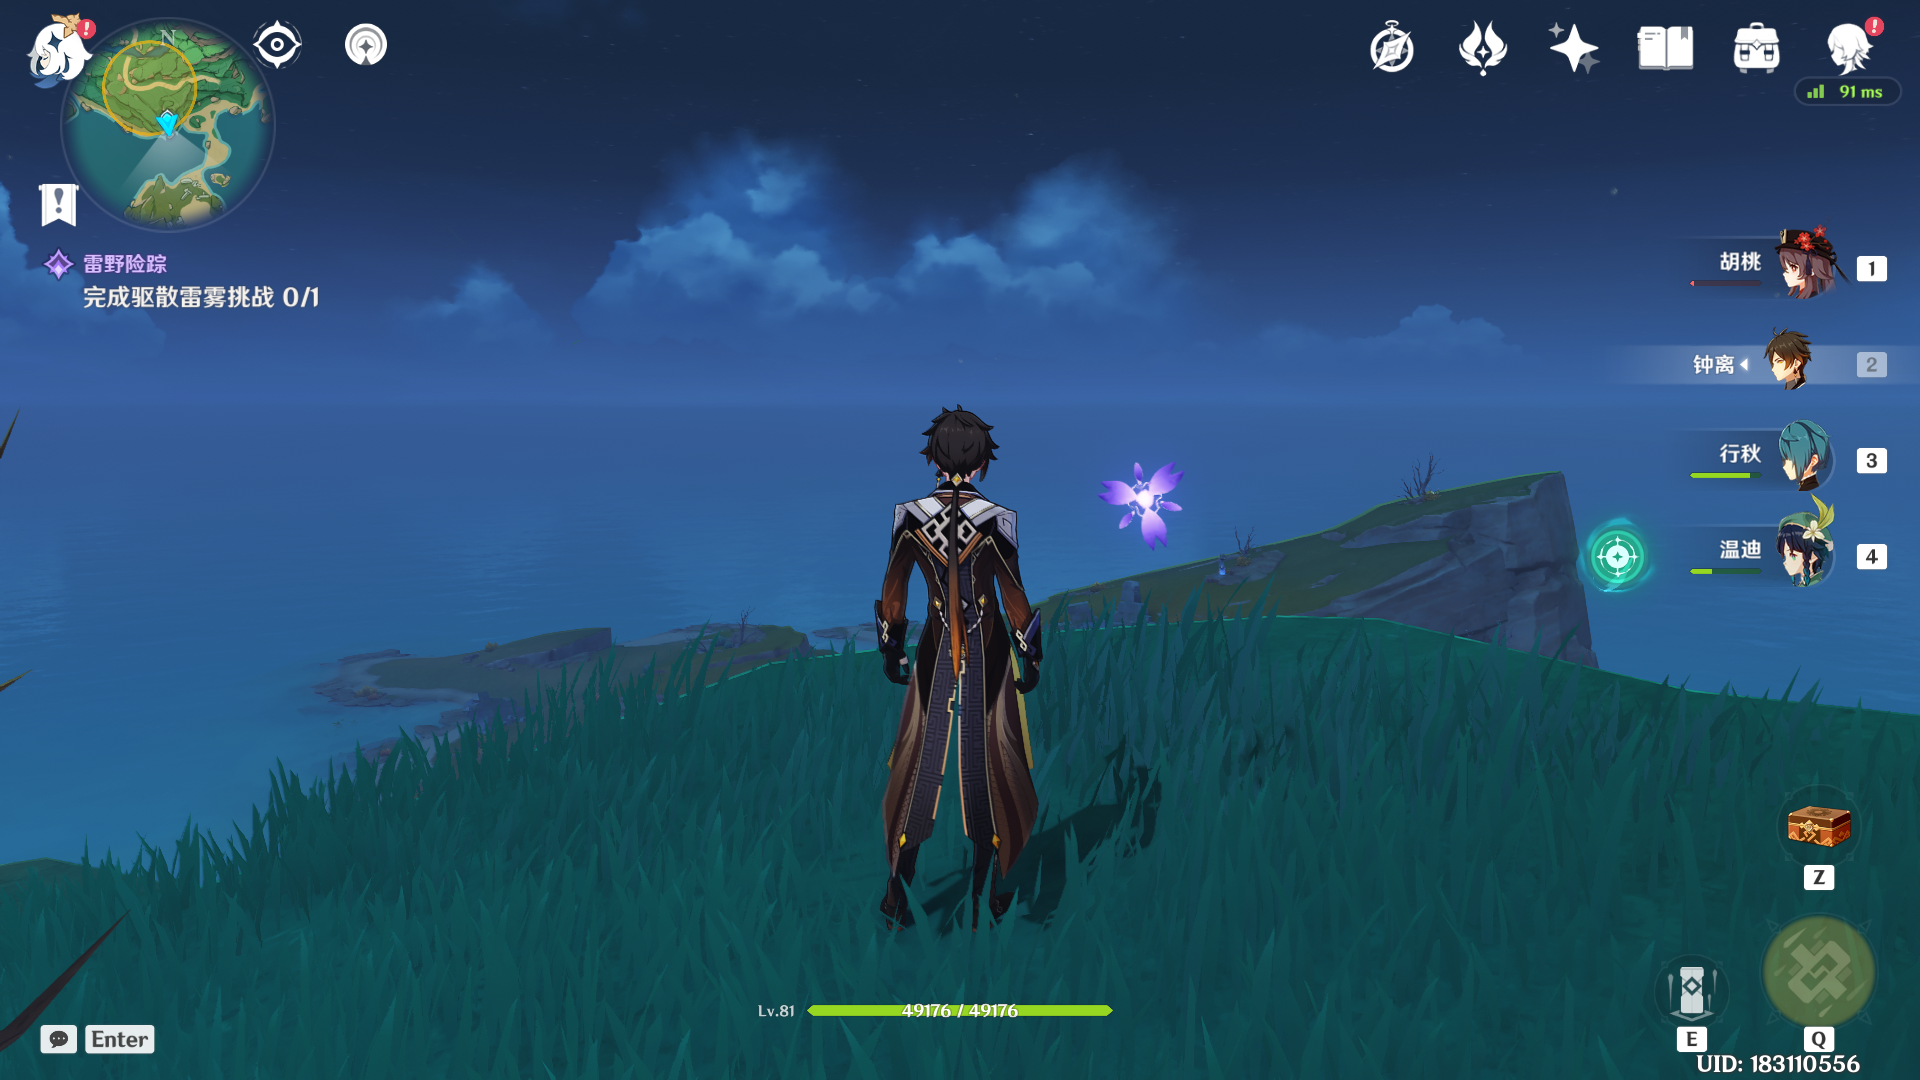character: (804, 375, 1091, 949)
